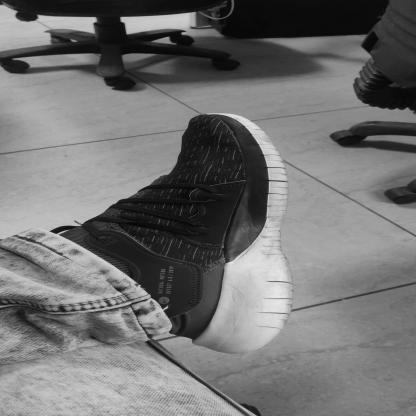ankle: (137, 275, 147, 280)
heel: (195, 330, 203, 334)
left_foot: (67, 114, 293, 354)
pinky: (185, 138, 190, 140)
toe: (218, 123, 226, 127)
